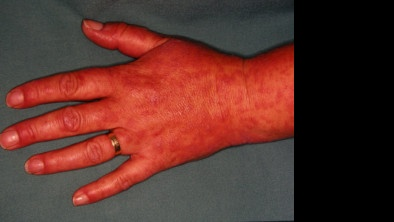SJS-TEN: (97, 41, 295, 166)
